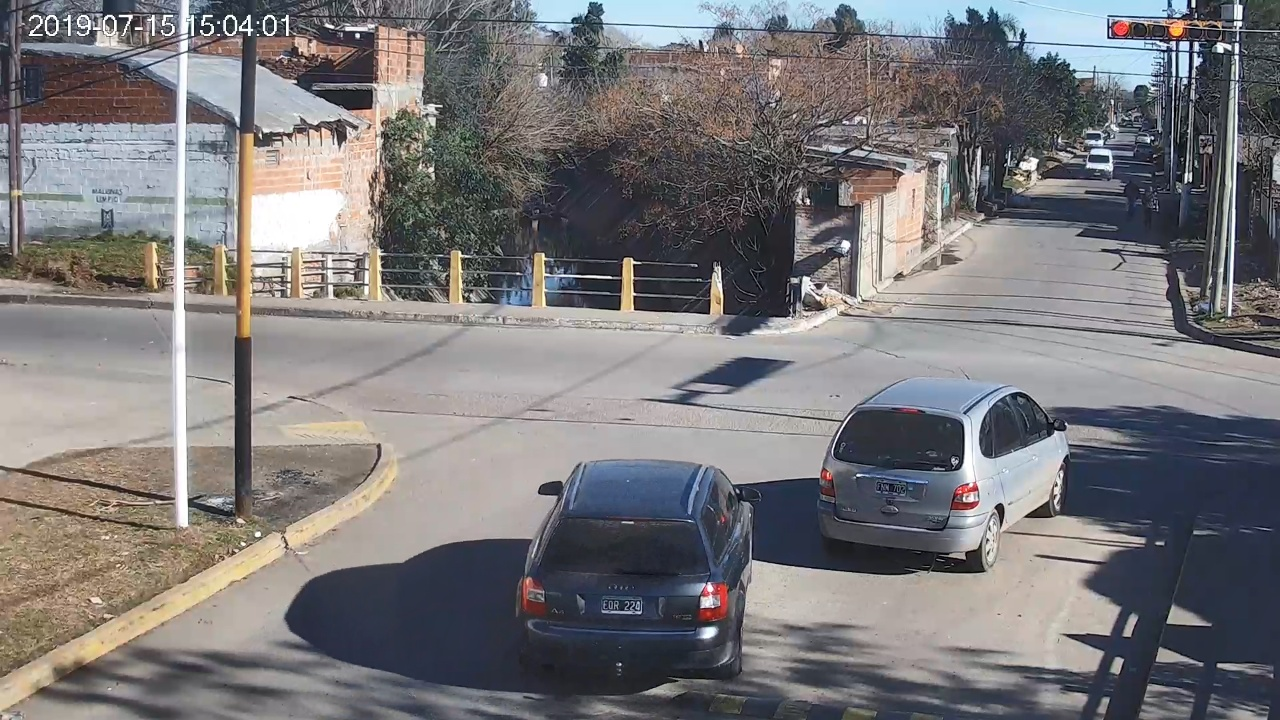car: (514, 459, 761, 679), (817, 377, 1069, 568)
traffic light: (1110, 17, 1222, 41)
